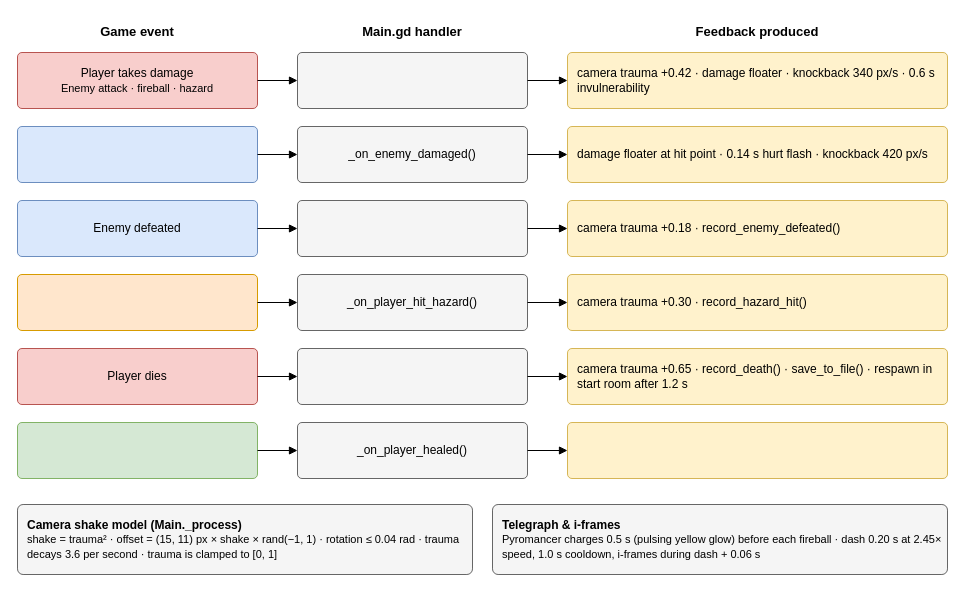
This 965x592 diagram has some shape labels left out. Here are the shapes that lost their labels. From the top down, the centre of each, then its label:
At (412,80): "_on_player_damaged()".
At (137,154): "Enemy takes damage Player.perform_attack()".
At (412,228): "_on_enemy_killed()".
At (137,302): "Player hits hazard".
At (412,376): "_on_player_died()".
At (137,450): "Player heals potion pickup".
At (757,450): "heal floater (green)".
